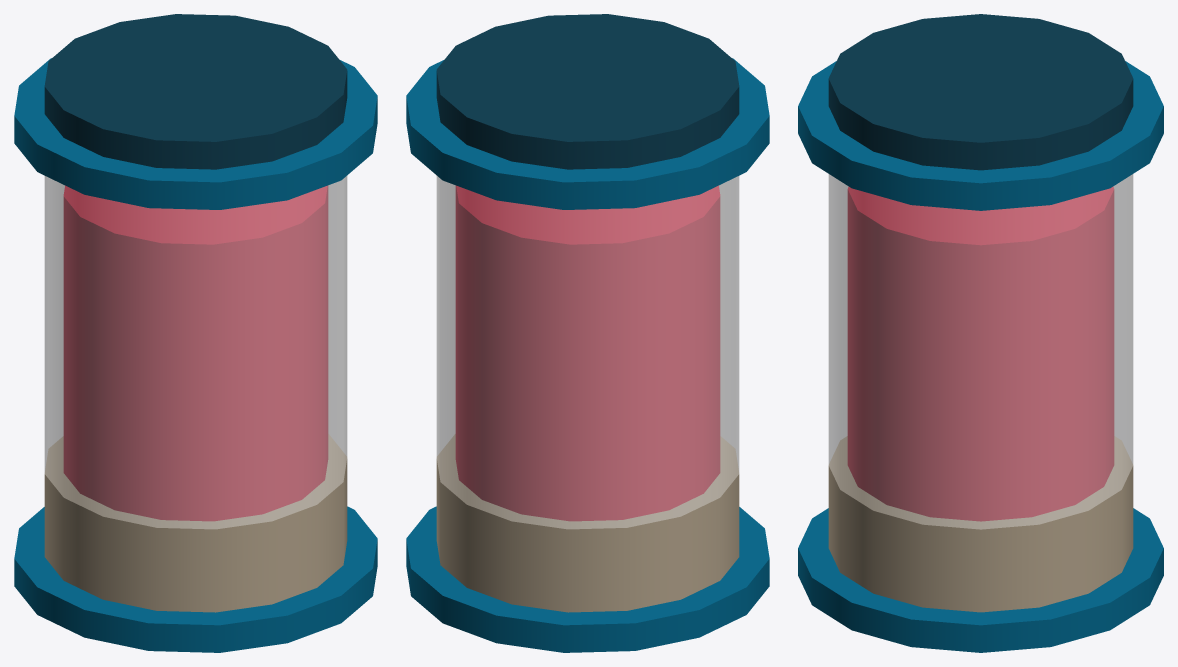
The model's file is G01_024_TankA.fbx.
3 renders of one model, left to right at view 1: azimuth 30°, elevation 25°; view 2: azimuth 150°, elevation 25°; view 3: azimuth 270°, elevation 25°, orthographic.
Parts seen in each view (by area): view 1: 014_Tank_01_B, 014_Tank_01_B.001, 柱体.023, 柱体.024, 柱体.022, 柱体.020; view 2: 014_Tank_01_B, 014_Tank_01_B.001, 柱体.023, 柱体.024, 柱体.022, 柱体.020; view 3: 014_Tank_01_B, 014_Tank_01_B.001, 柱体.023, 柱体.024, 柱体.022, 柱体.020.
Boxes of the visible parts, bbox=[...] form: 014_Tank_01_B: bbox=[44, 176, 347, 529]; 014_Tank_01_B.001: bbox=[63, 185, 328, 521]; 柱体.023: bbox=[44, 14, 347, 169]; 柱体.024: bbox=[44, 434, 347, 612]; 柱体.022: bbox=[14, 58, 377, 209]; 柱体.020: bbox=[14, 506, 377, 652]; 014_Tank_01_B: bbox=[436, 176, 739, 529]; 014_Tank_01_B.001: bbox=[455, 185, 720, 521]; 柱体.023: bbox=[436, 14, 739, 169]; 柱体.024: bbox=[436, 434, 739, 612]; 柱体.022: bbox=[406, 58, 769, 209]; 柱体.020: bbox=[406, 506, 769, 652]; 014_Tank_01_B: bbox=[828, 174, 1133, 529]; 014_Tank_01_B.001: bbox=[847, 187, 1114, 521]; 柱体.023: bbox=[828, 14, 1133, 170]; 柱体.024: bbox=[828, 436, 1133, 612]; 柱体.022: bbox=[798, 61, 1163, 210]; 柱体.020: bbox=[798, 508, 1163, 652].
Size of the model in its own units: 240 by 360 by 240.
